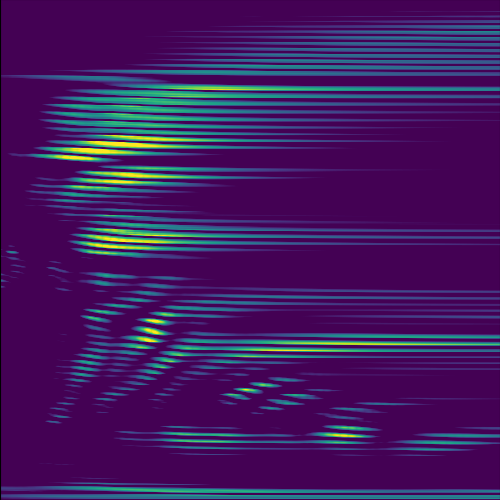semblance: (44, 127, 229, 163), (81, 216, 209, 260), (72, 162, 194, 194), (123, 306, 183, 357), (317, 421, 373, 446), (226, 372, 273, 399)
